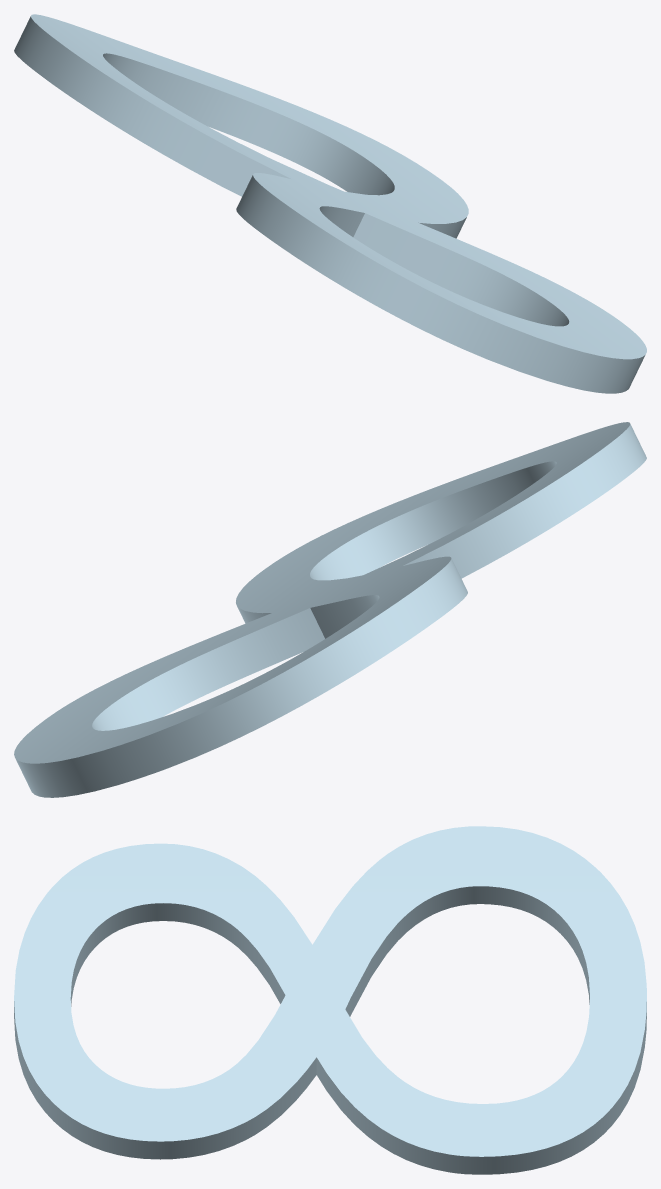
Rendered from Number_8.gltf.
3 views of the same model, one above another, from view 1: azimuth 30°, elevation 25°; view 2: azimuth 150°, elevation 25°; view 3: azimuth 270°, elevation 25° (orthographic). The views are drawn at different scales.
Visible parts, largest first — view 1: Sub_5_Cell_1_2_Number_8; view 2: Sub_5_Cell_1_2_Number_8; view 3: Sub_5_Cell_1_2_Number_8.
Boxes of the visible parts, x1,y1,x2,y2 form: Sub_5_Cell_1_2_Number_8: [14, 14, 646, 393]; Sub_5_Cell_1_2_Number_8: [14, 422, 646, 797]; Sub_5_Cell_1_2_Number_8: [14, 826, 646, 1174].
Size of the model in its own units: 0.015 by 0.00934 by 0.0259.
